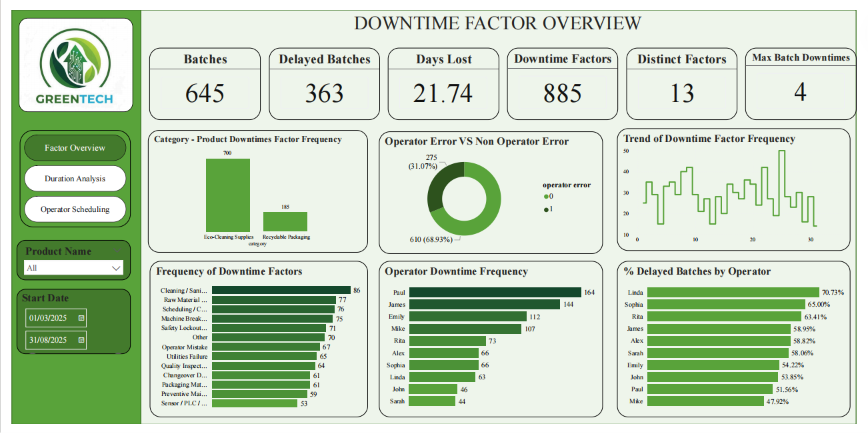

This screenshot's page, from the dashboard's own definition file:
{"tool":"powerbi","page":{"name":"Factor Overview","canvas":[1900,930],"ordinal":0},"visuals":[{"type":"shape","box":[289.9,0,1607.1,930.5],"z":0},{"type":"shape","box":[0,0,289.9,930.5],"z":1000},{"type":"textbox","box":[289.9,0,1607.1,71.9],"z":2000},{"type":"cardVisual","title":"Batches","fields":{"Data":["CountNonNull(batch_pd.batch_id)"]},"box":[309.4,84.7,250,162],"z":3000},{"type":"cardVisual","title":"Delayed Batches","fields":{"Data":["Count(downtimes.batch_id)"]},"box":[577.6,84.7,249.5,161.8],"z":4000},{"type":"cardVisual","title":"Days Lost","fields":{"Data":["Sum(downtimes.days)"]},"box":[845.3,84.7,249.5,161.8],"z":5000},{"type":"cardVisual","title":"Downtime Factors","fields":{"Data":["CountNonNull(downtimes.factor_id)"]},"box":[1112.9,84.7,249.5,161.8],"z":6000},{"type":"cardVisual","title":"Distinct Factors","fields":{"Data":["Count(downtimes.factor_id)"]},"box":[1380.6,84.7,249.5,161.8],"z":7000},{"type":"cardVisual","title":"Max Batch Downtimes","fields":{"Data":["downtimes.max downtime per batch"]},"box":[1648.3,84.7,249.5,161.8],"z":8000},{"type":"columnChart","title":"Category - Product Downtimes Factor Frequency","fields":{"Y":["CountNonNull(downtimes.factor_id)"],"Category":["products.category Hierarchy.category","products.category Hierarchy.product_name"]},"box":[305.7,270.5,494.5,275],"z":9000},{"type":"donutChart","title":"Operator Error VS Non Operator Error","fields":{"Category":["downtime_factors.operator_error"],"Y":["CountNonNull(downtimes.factor_id)"]},"box":[824.9,272.7,503.5,275],"z":10000},{"type":"lineChart","title":"Trend of Downtime Factor Frequency","fields":{"Category":["batch_pd.start_date.Variation.Date Hierarchy.Year","batch_pd.start_date.Variation.Date Hierarchy.Quarter","batch_pd.start_date.Variation.Date Hierarchy.Month","batch_pd.start_date.Variation.Date Hierarchy.Day"],"Y":["CountNonNull(downtimes.factor_id)"]},"box":[1359.8,266,523.7,275],"z":11000},{"type":"barChart","title":"Frequency of Downtime Factors","fields":{"Category":["downtime_factors.factor_name"],"Y":["CountNonNull(downtimes.factor_id)"]},"box":[310.2,564.2,490,350.6],"z":12000},{"type":"barChart","title":"Operator Downtime Frequency ","fields":{"Y":["CountNonNull(downtimes.factor_id)"],"Category":["batch_pd.operator"]},"box":[824.9,564.2,503.5,350.6],"z":13000},{"type":"barChart","title":"% Delayed Batches by Operator","fields":{"Category":["batch_pd.operator"],"Y":["downtimes.delayed batches %"]},"box":[1359.8,564.2,523.7,350.6],"z":14000},{"type":"slicer","fields":{"Values":["products.product_name"]},"box":[11.2,517,256.2,89.9],"z":15000},{"type":"slicer","title":"Start Date","fields":{"Values":["batch_pd.start_date"]},"box":[11.2,627.1,256.2,146.1],"z":16000},{"type":"image","box":[15.7,18,256.2,211.3],"z":17000},{"type":"pageNavigator","box":[18,269.7,249.5,218],"z":18000}]}

Visuals, with their boxes in screenshot pixels (x1, y1, x2, y2), scaled from the page's 1900x930 canvas onto the 868x433 screenshot:
shape: select_region(132, 0, 867, 432)
shape: select_region(0, 0, 132, 432)
textbox: select_region(132, 0, 867, 33)
"Batches" cardVisual: select_region(141, 39, 256, 115)
"Delayed Batches" cardVisual: select_region(264, 39, 378, 115)
"Days Lost" cardVisual: select_region(386, 39, 500, 115)
"Downtime Factors" cardVisual: select_region(508, 39, 622, 115)
"Distinct Factors" cardVisual: select_region(631, 39, 745, 115)
"Max Batch Downtimes" cardVisual: select_region(753, 39, 867, 115)
"Category - Product Downtimes Factor Frequency" columnChart: select_region(140, 126, 366, 254)
"Operator Error VS Non Operator Error" donutChart: select_region(377, 127, 607, 255)
"Trend of Downtime Factor Frequency" lineChart: select_region(621, 124, 860, 252)
"Frequency of Downtime Factors" barChart: select_region(142, 263, 366, 426)
"Operator Downtime Frequency " barChart: select_region(377, 263, 607, 426)
"% Delayed Batches by Operator" barChart: select_region(621, 263, 860, 426)
slicer - products.product_name: select_region(5, 241, 122, 283)
"Start Date" slicer: select_region(5, 292, 122, 360)
image: select_region(7, 8, 124, 107)
pageNavigator: select_region(8, 126, 122, 227)
